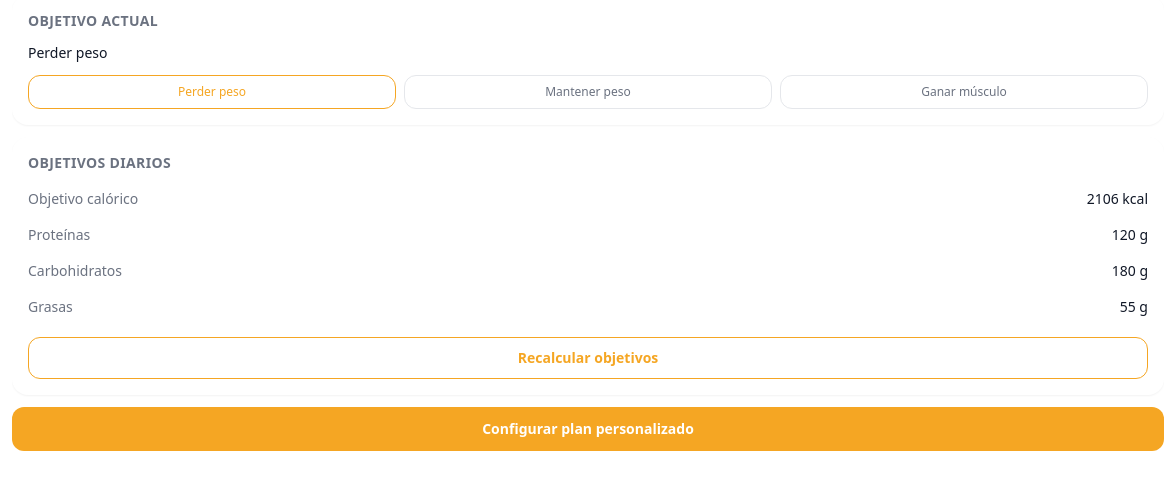
Test case: PlanRoute › recalculate feedback › says goals are already up to date when nothing changes
Click the button "Recalcular objetivos" at coordinates (588, 358), box x1=28 y1=337 x2=1148 y2=379
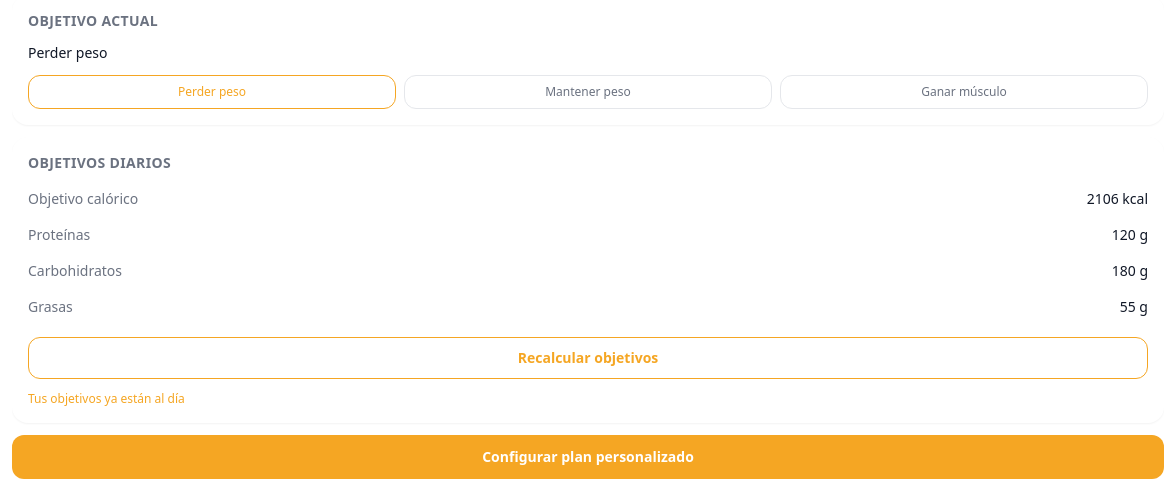
Expected: the text "Tus objetivos ya están al día" is shown, x1=28 y1=390 x2=185 y2=407
